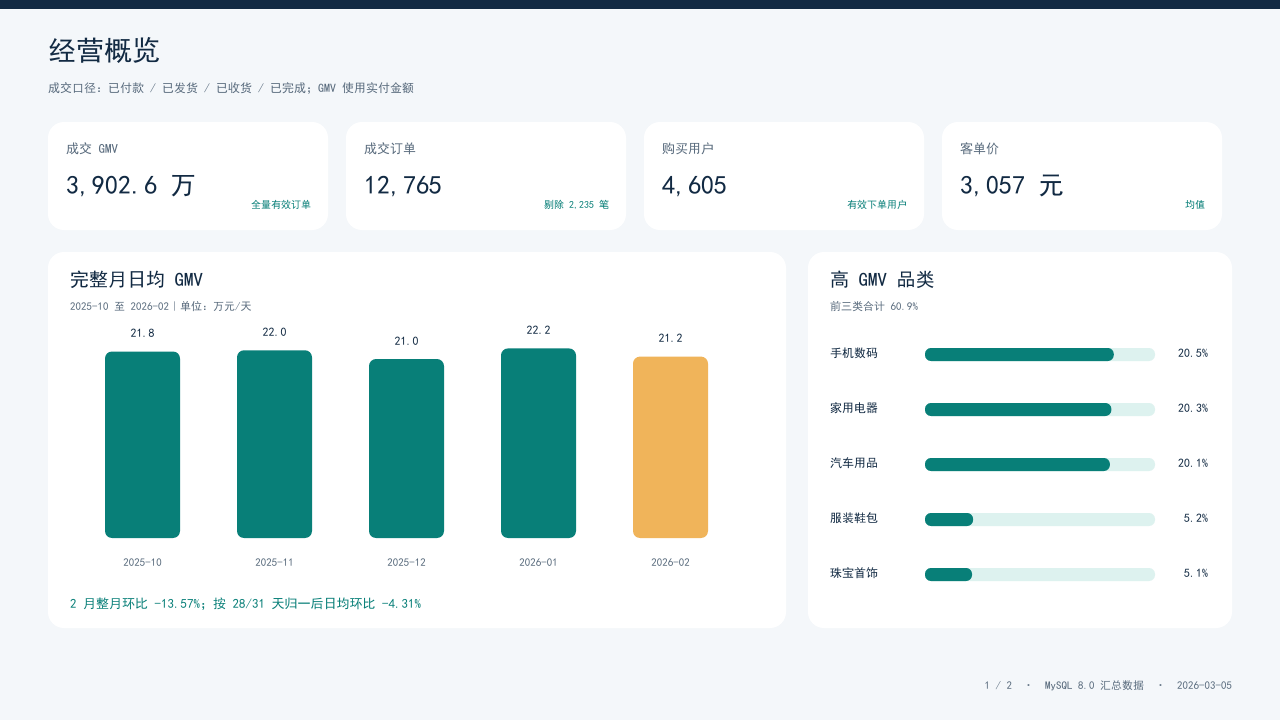

The page's visual inventory and layout, read from the dashboard file:
{"tool":"powerbi","page":{"name":"经营概览","canvas":[1280,720],"ordinal":0},"visuals":[{"type":"cardVisual","title":"实付 GMV","fields":{"Data":["Sum(overview.gmv)"]},"box":[30,35,280,135],"z":0},{"type":"cardVisual","title":"成交订单","fields":{"Data":["Sum(overview.valid_orders)"]},"box":[340,35,280,135],"z":1000},{"type":"cardVisual","title":"购买用户","fields":{"Data":["Sum(overview.buyers)"]},"box":[650,35,280,135],"z":2000},{"type":"cardVisual","title":"客单价","fields":{"Data":["Sum(overview.aov)"]},"box":[960,35,280,135],"z":3000},{"type":"lineChart","title":"整月 GMV","fields":{"Category":["monthly.month_key"],"Y":["Sum(monthly.gmv)"]},"box":[30,210,590,440],"z":4000},{"type":"lineChart","title":"日均 GMV","fields":{"Category":["monthly.month_key"],"Y":["Sum(monthly.daily_gmv)"]},"box":[650,210,590,440],"z":5000}]}

Visuals, with their boxes in screenshot pixels (x1, y1, x2, y2), scaled from the page's 1280x720 canvas onto the 1280x720 screenshot:
"实付 GMV" cardVisual: BBox(30, 35, 310, 170)
"成交订单" cardVisual: BBox(340, 35, 620, 170)
"购买用户" cardVisual: BBox(650, 35, 930, 170)
"客单价" cardVisual: BBox(960, 35, 1240, 170)
"整月 GMV" lineChart: BBox(30, 210, 620, 650)
"日均 GMV" lineChart: BBox(650, 210, 1240, 650)
